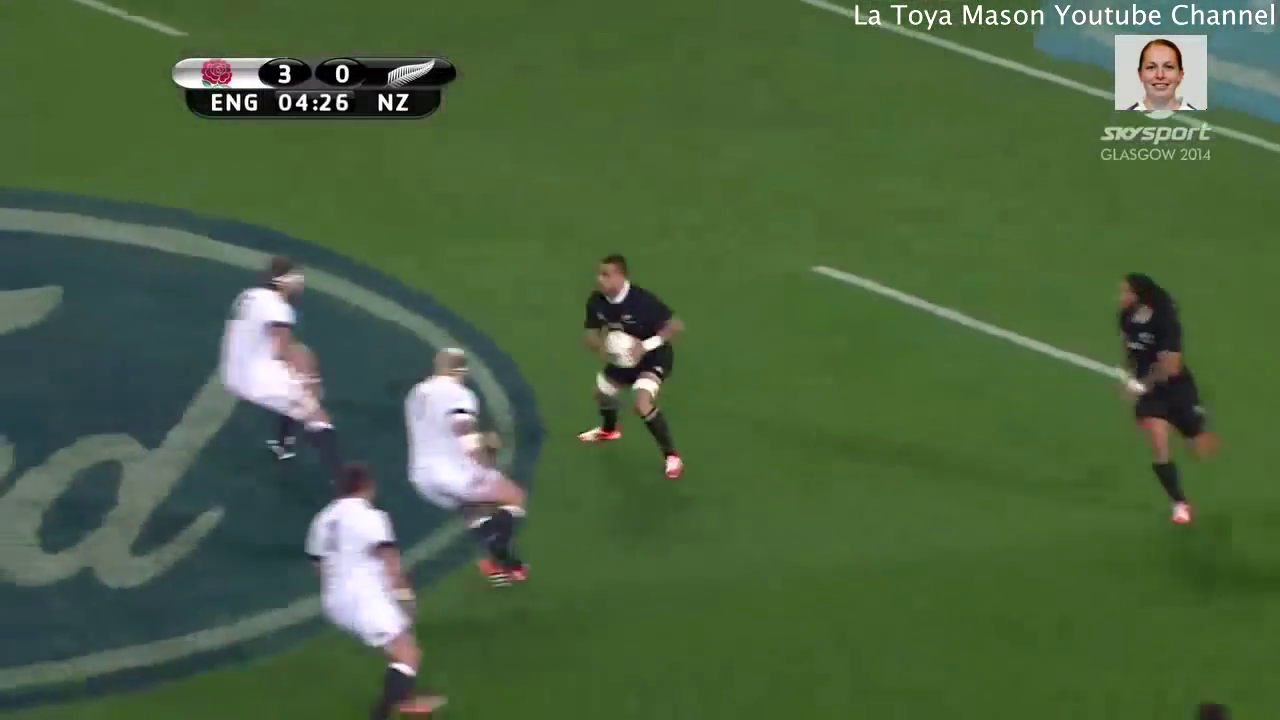ball: (593, 315, 649, 388)
player: (204, 240, 381, 520), (390, 330, 555, 603), (297, 448, 457, 720), (1097, 266, 1225, 537), (560, 240, 686, 492)
